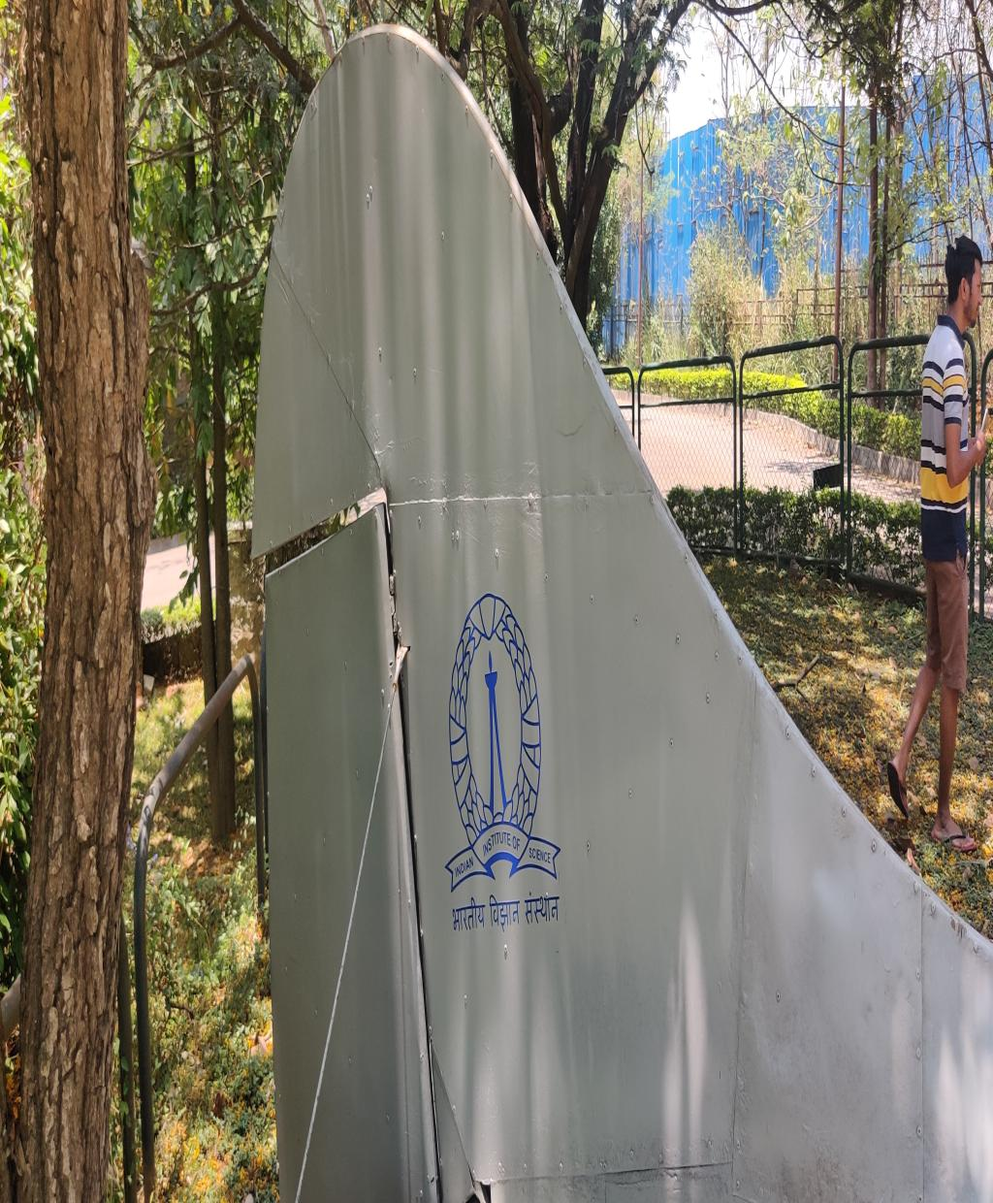crack: (462, 1148, 495, 1203)
